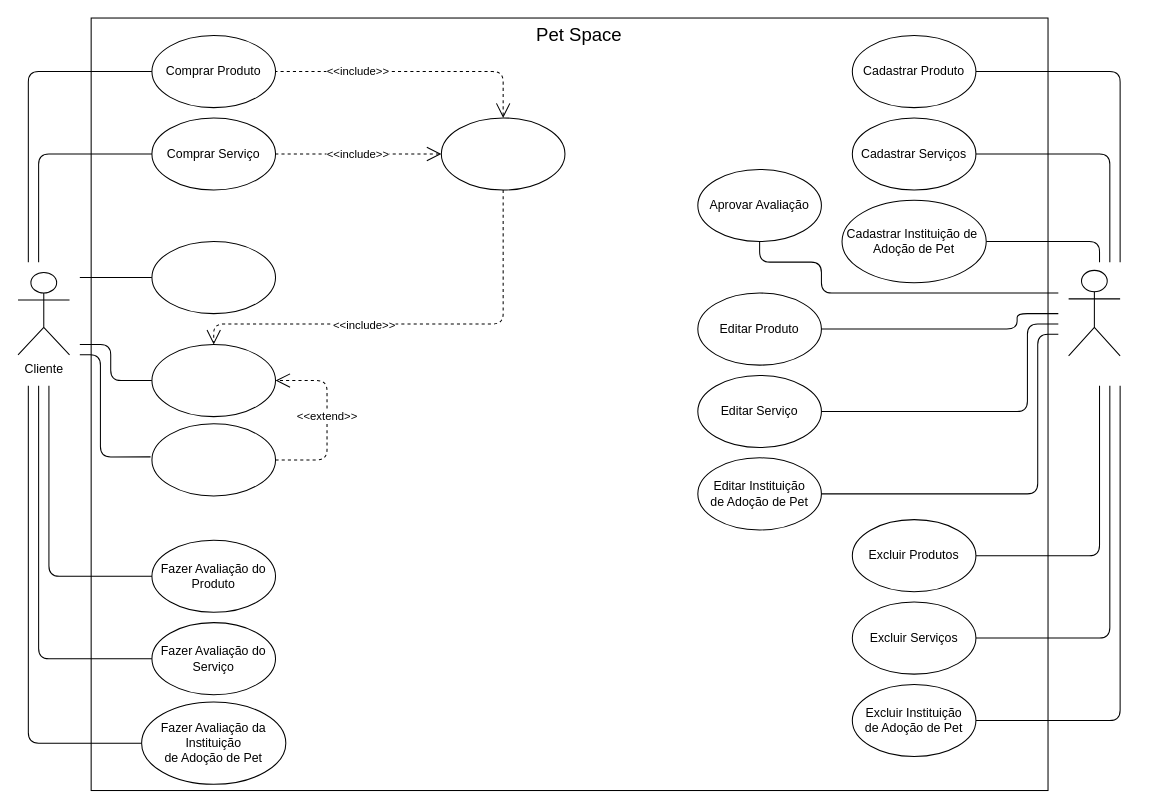
This 1151x809 diagram has some shape labels left out. Each missing label, with the centre of its shape:
"Administrador" goes at [1094,312].
"Adotar Pet" goes at [213,277].
"Criar Conta" goes at [213,459].
"Fazer Login" goes at [213,380].
"Finalizar compra" goes at [502,153].
